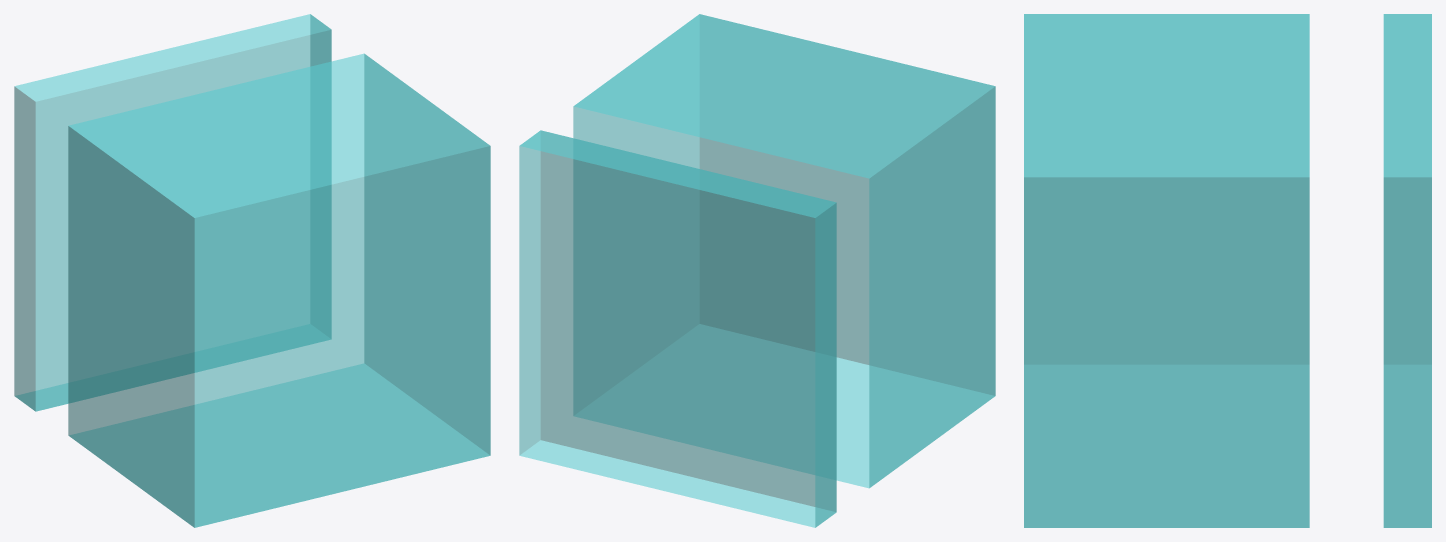
File: repro.glb
The picture shows the model from 3 angles, left to right: view 1: azimuth 30°, elevation 25°; view 2: azimuth 150°, elevation 25°; view 3: azimuth 270°, elevation 25°; orthographic projection. The views are drawn at different scales.
Parts seen in each view (by area): view 1: Cube; view 2: Cube; view 3: Cube.
Part boxes in pixels (x1=…): Cube: x1=14, y1=14, x2=490, y2=527; Cube: x1=519, y1=14, x2=995, y2=527; Cube: x1=1024, y1=14, x2=1431, y2=527.
Size of the model in its own units: 2 by 2 by 2.11.
